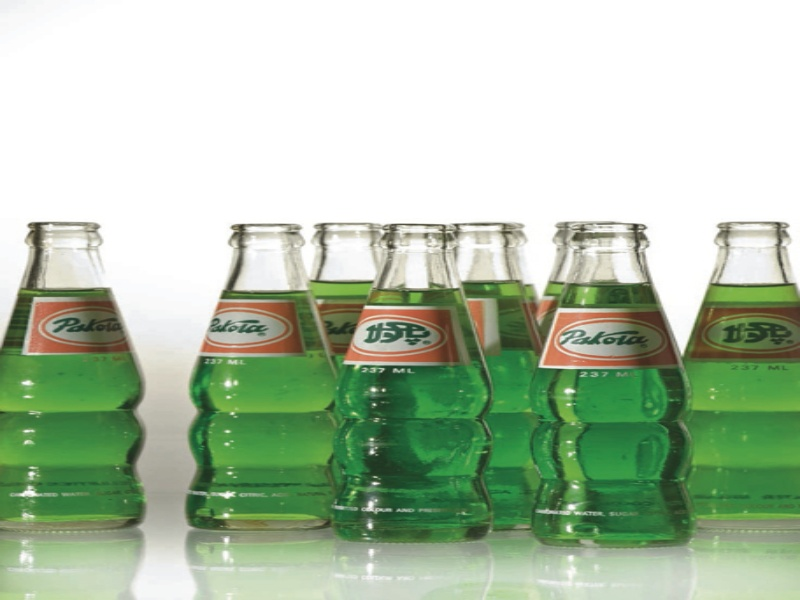Glass bottle: (176, 193, 355, 561), (524, 203, 704, 556), (335, 205, 504, 556), (6, 205, 159, 540), (648, 190, 800, 520), (431, 190, 564, 545), (292, 194, 388, 339)
